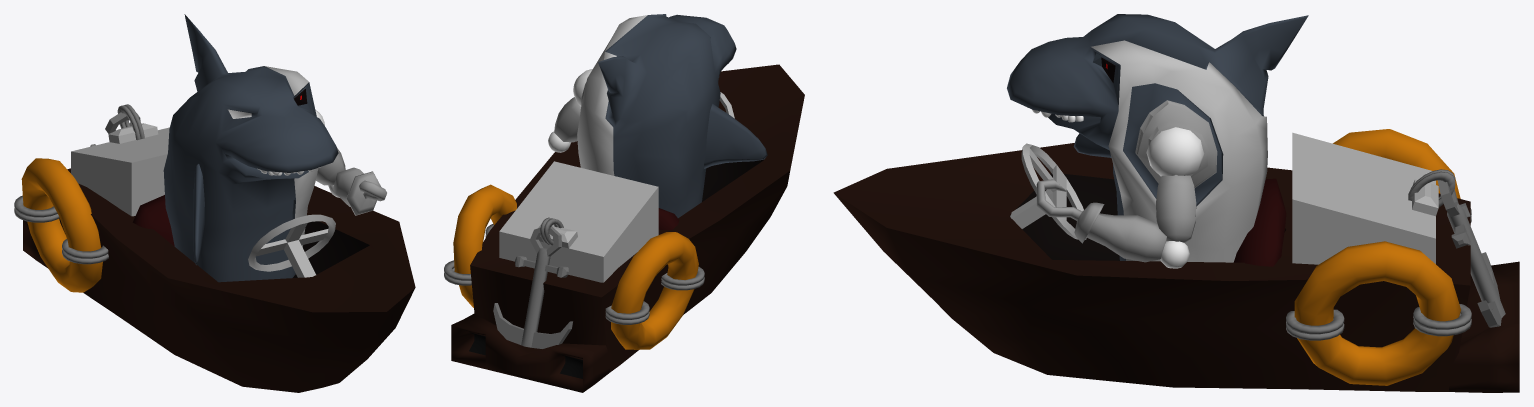
Rendered from tiburon.FBX.
The picture shows the model from 3 angles, left to right: view 1: azimuth 30°, elevation 25°; view 2: azimuth 150°, elevation 25°; view 3: azimuth 270°, elevation 25°; orthographic projection. The views are drawn at different scales.
Parts seen in each view (by area): view 1: Box007, Box003, Torus004, Cylinder005, Cylinder003, Cylinder004; view 2: Box007, Box003, Cylinder003, Sphere003; view 3: Box007, Box003, Cylinder004, Torus004, Cylinder003, Sphere003, Cylinder005, Sphere001.
Part boxes in pixels (box(x1,y1,x2,y2)): Box007: box(14, 104, 415, 392); Box003: box(163, 14, 338, 282); Torus004: box(248, 214, 335, 277); Cylinder005: box(346, 171, 386, 215); Cylinder003: box(315, 148, 345, 185); Cylinder004: box(333, 167, 363, 206); Box007: box(444, 64, 804, 392); Box003: box(577, 14, 767, 217); Cylinder003: box(554, 97, 580, 142); Sphere003: box(573, 69, 592, 106); Box007: box(833, 129, 1519, 392); Box003: box(1007, 14, 1308, 262); Cylinder004: box(1086, 213, 1166, 262); Torus004: box(1010, 143, 1086, 239); Cylinder003: box(1156, 175, 1196, 242); Sphere003: box(1146, 127, 1204, 176); Cylinder005: box(1036, 179, 1104, 243); Sphere001: box(1160, 241, 1189, 268).
Size of the model in its own units: 33.65 by 38.87 by 72.08.
